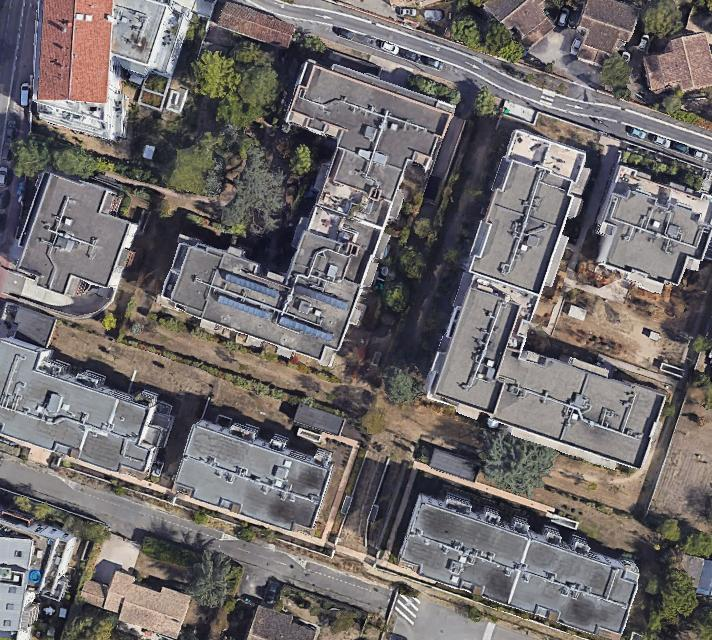immeuble: (262, 73, 432, 371), (424, 125, 591, 425), (424, 320, 665, 470), (397, 494, 643, 639), (152, 236, 360, 370), (0, 333, 179, 487), (23, 0, 197, 137), (173, 413, 335, 540), (10, 166, 146, 313), (577, 157, 712, 300), (285, 59, 455, 169), (0, 516, 77, 640)
maison: (77, 562, 192, 640), (570, 0, 639, 70), (641, 32, 712, 92), (482, 0, 559, 53), (247, 606, 316, 639)
